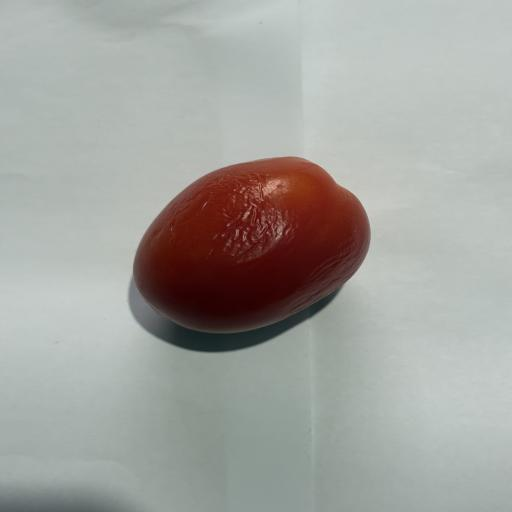spoiled: (133, 157, 370, 333)
